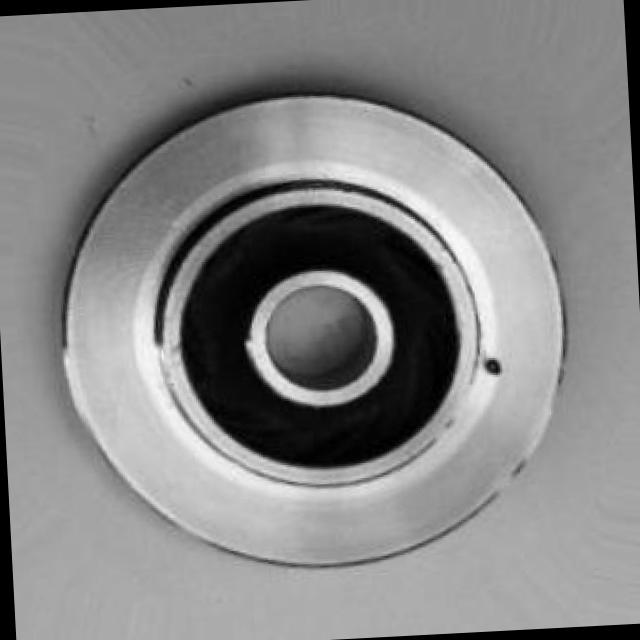Defect: (472, 344, 514, 394)
